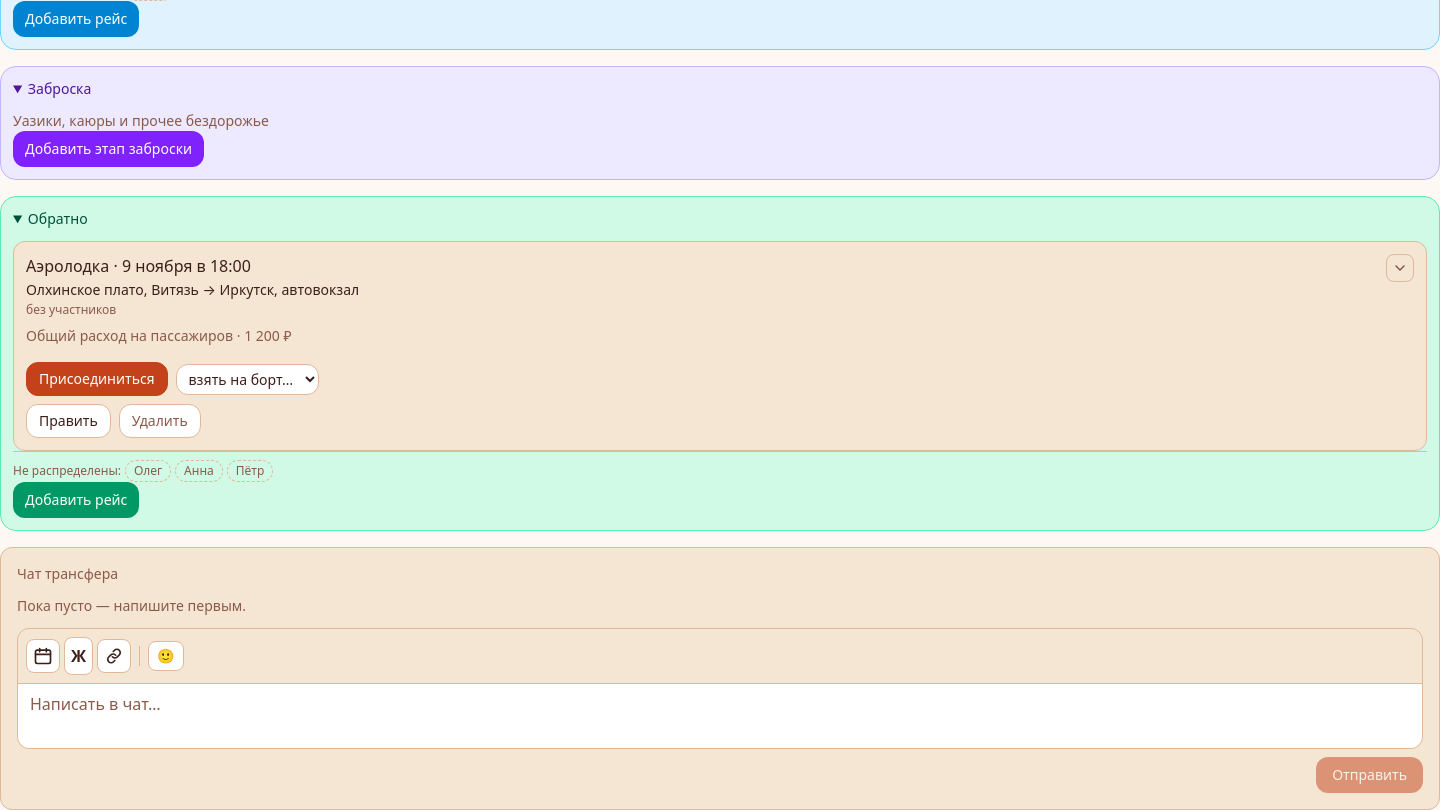
TripTransfer › «Добавить трансфер» открывает форму своей стороны
(page scrolled)
Click the button with test id "transfer-add-back" at (76, 500), box [13,482,139,518]
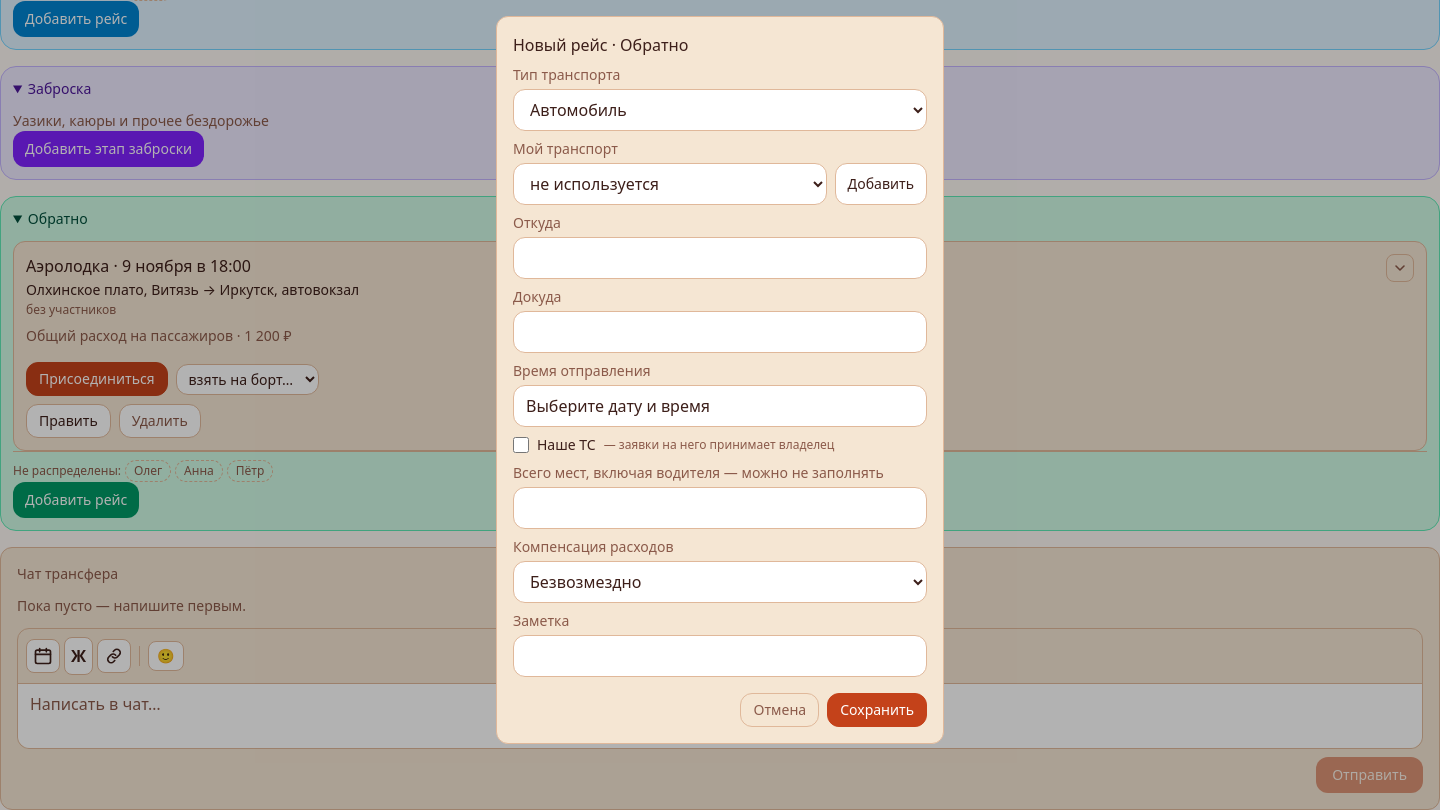
Now the element with test id "transfer-leg-dialog" shows "Обратно", box [513,34,688,56]
